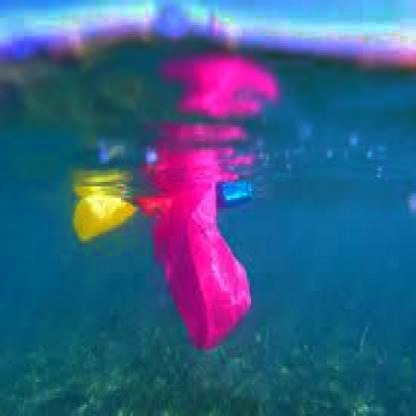pbag: (135, 184, 260, 357), (65, 182, 135, 250)
